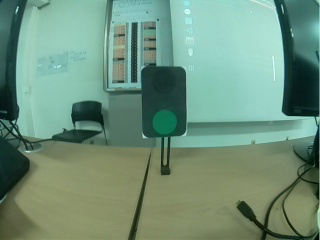green_light: (141, 67, 186, 135)
